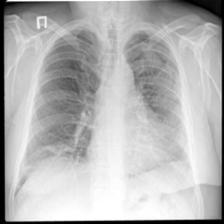tuberculosis: (13, 24, 194, 202)
